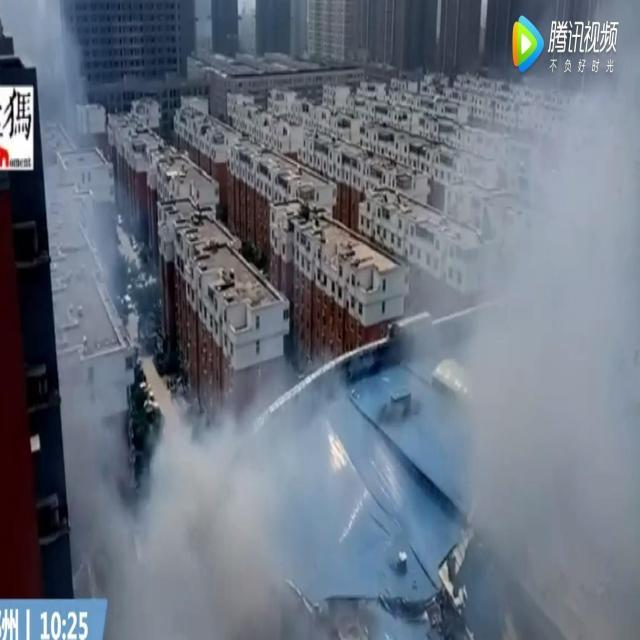Smoke: (1, 0, 360, 638), (406, 0, 640, 640)
